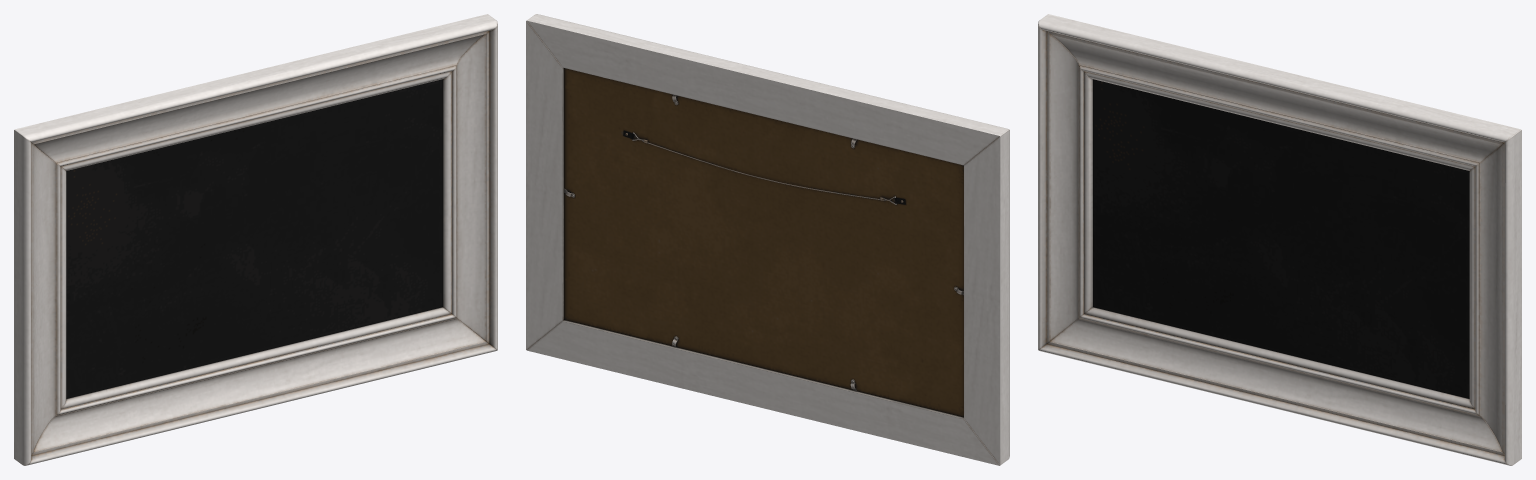
The model's file is hanging_picture_frame_02.glb.
3 renders of one model, left to right at view 1: azimuth 30°, elevation 25°; view 2: azimuth 150°, elevation 25°; view 3: azimuth 330°, elevation 25°, orthographic.
Parts seen in each view (by area): view 1: hanging_picture_frame_02; view 2: hanging_picture_frame_02; view 3: hanging_picture_frame_02.
Boxes of the visible parts, x1=… form: hanging_picture_frame_02: x1=14, y1=14, x2=497, y2=465; hanging_picture_frame_02: x1=526, y1=14, x2=1009, y2=465; hanging_picture_frame_02: x1=1038, y1=14, x2=1521, y2=465.
Bounding box in the file's own units: 0.7518 × 0.5 × 0.0331.
3 materials, 3 textured.
